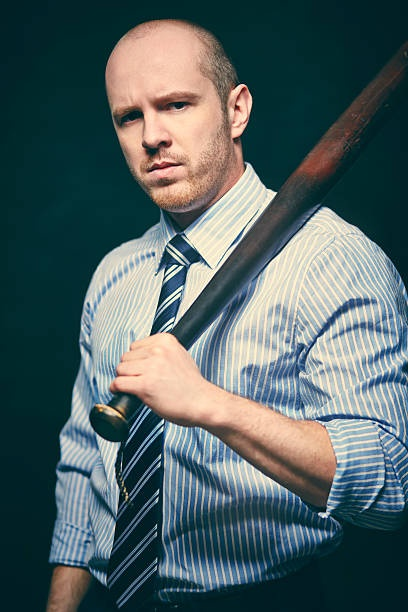bita: (87, 59, 408, 422)
